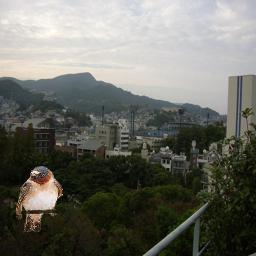Swallow: (16, 166, 63, 232)
